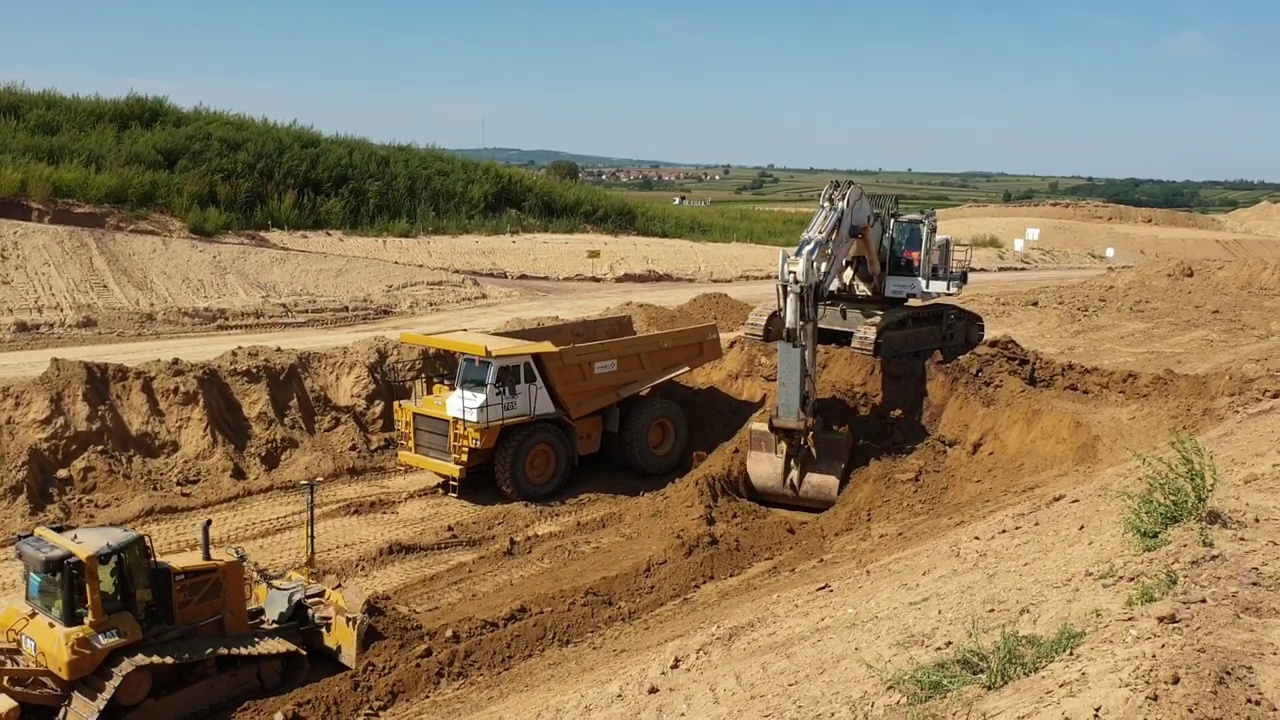bulldozer: (1, 468, 378, 720)
excavator: (739, 175, 990, 517)
truck: (381, 306, 730, 505)
